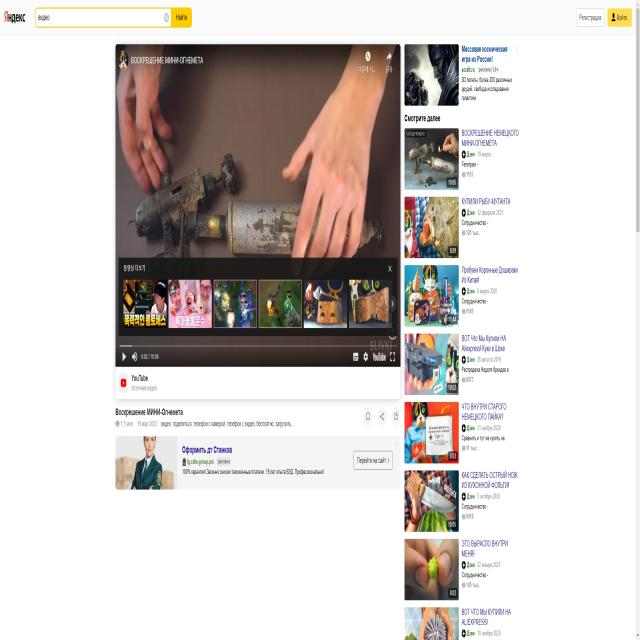content: (112, 402, 400, 431)
control-bar: (114, 344, 400, 363)
menu-bar: (572, 8, 634, 30)
search: (32, 6, 193, 28)
